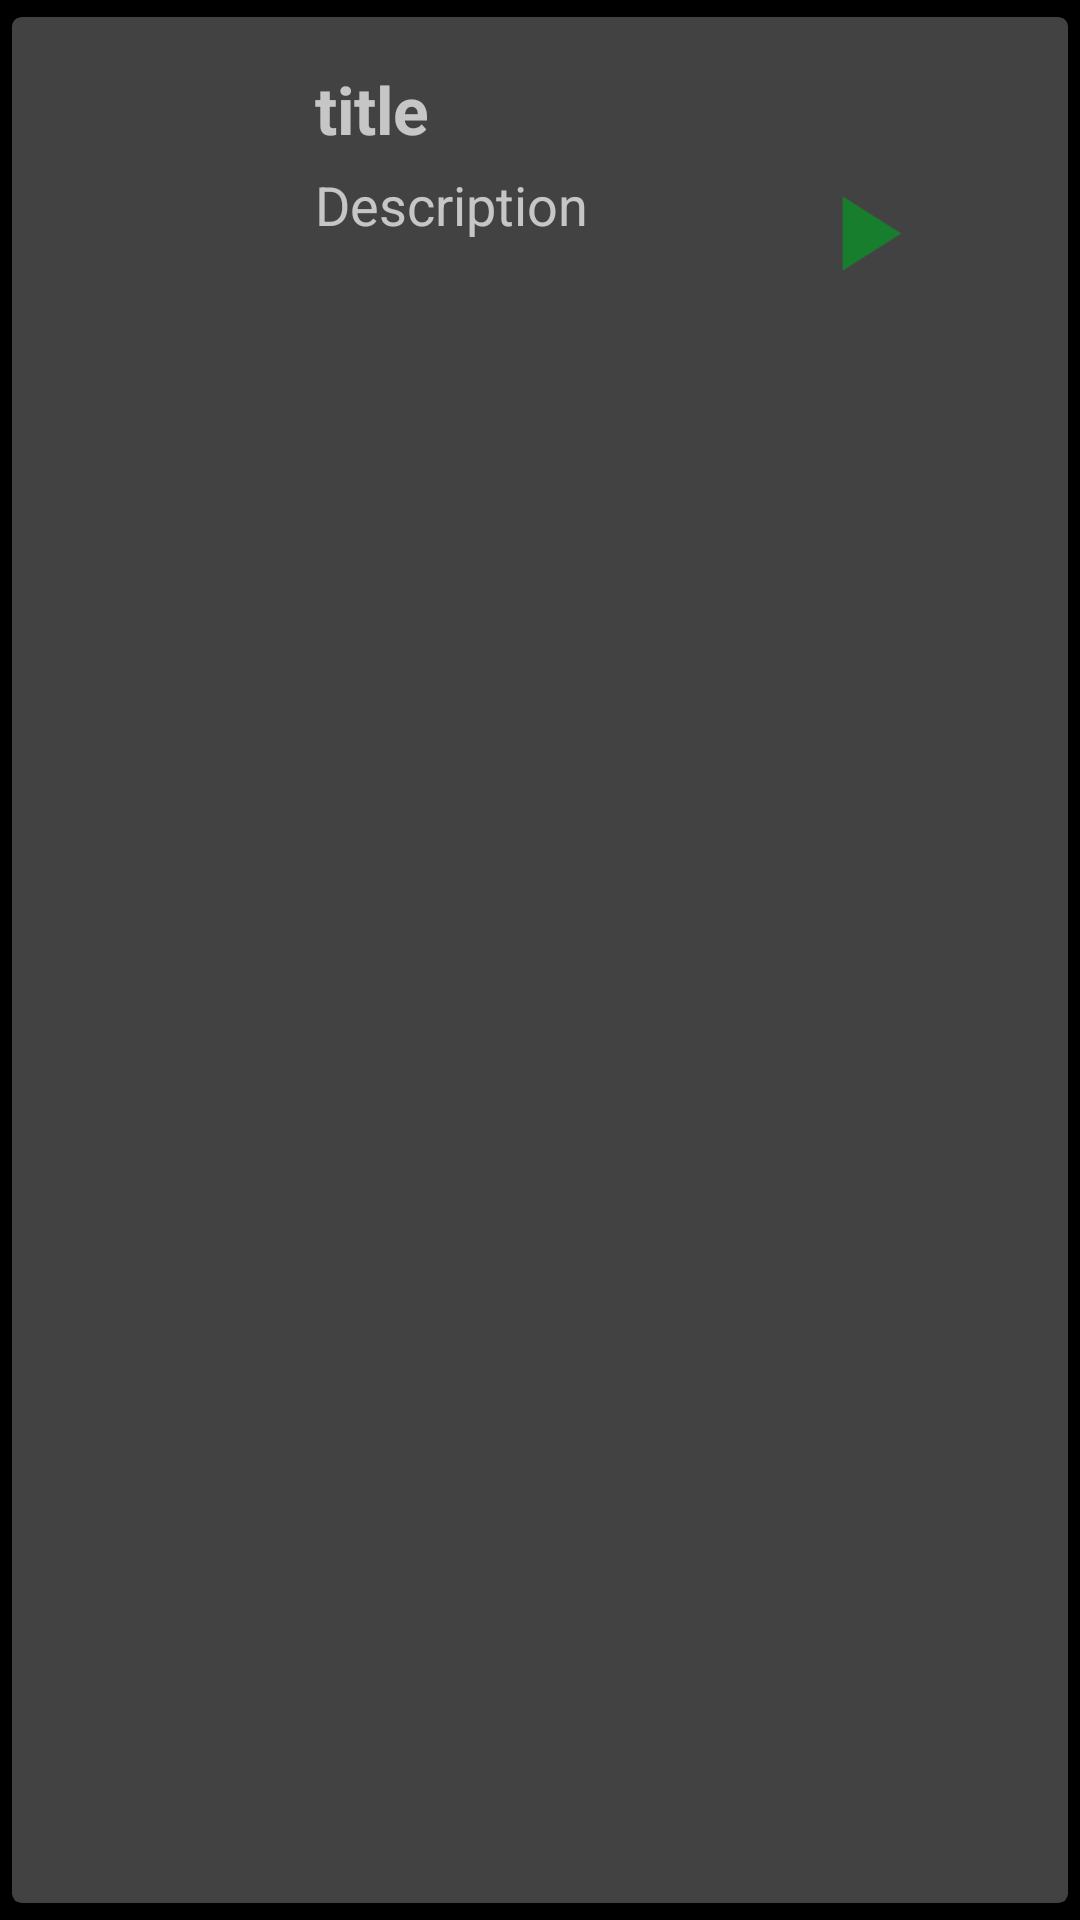

Where to tap for icons on this 1080×1920 app screen, as [x,y]:
sound play: [872,233]
